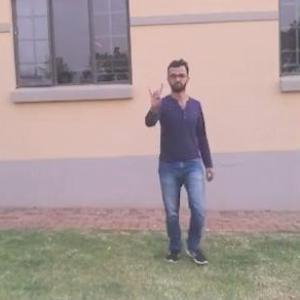takeoff-hand: (142, 78, 170, 113)
